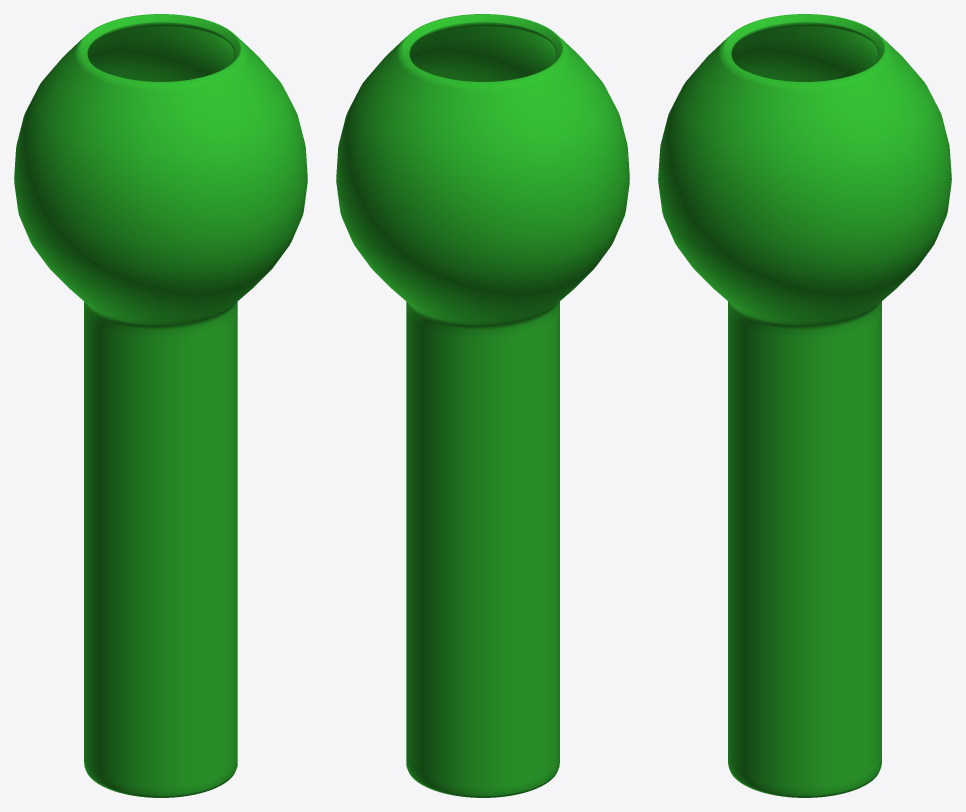
Rendered from vase_ceramic.glb.
3 renders of one model, left to right at view 1: azimuth 30°, elevation 25°; view 2: azimuth 150°, elevation 25°; view 3: azimuth 270°, elevation 25°, orthographic.
Parts seen in each view (by area): view 1: decorative_set_vol005_hamid_shk35.001; view 2: decorative_set_vol005_hamid_shk35.001; view 3: decorative_set_vol005_hamid_shk35.001.
Part boxes in pixels (left/top/right/bottom): decorative_set_vol005_hamid_shk35.001: left=14, top=14, right=307, bottom=797; decorative_set_vol005_hamid_shk35.001: left=336, top=14, right=629, bottom=797; decorative_set_vol005_hamid_shk35.001: left=658, top=14, right=951, bottom=797.
Size of the model in its own units: 0.7485 by 2.02 by 0.7485.
